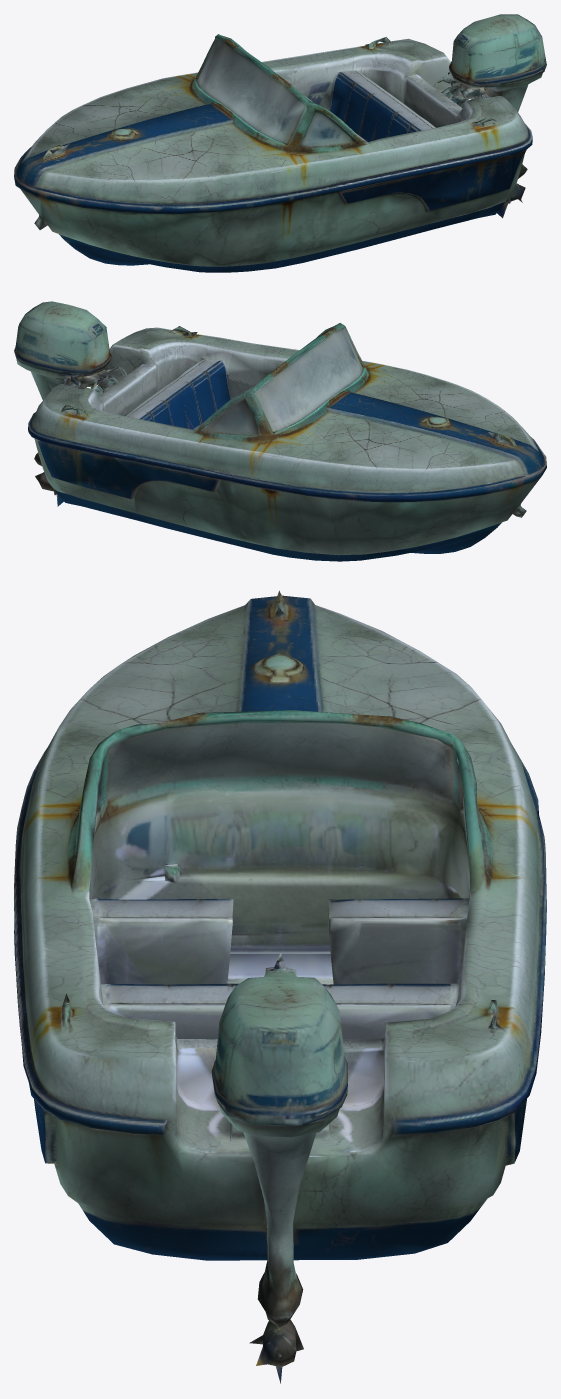
File: lancha.glb
3 renders of one model, top to bottom at view 1: azimuth 30°, elevation 25°; view 2: azimuth 150°, elevation 25°; view 3: azimuth 270°, elevation 25°, orthographic. The views are drawn at different scales.
Parts seen in each view (by area): view 1: Mesh1.0; view 2: Mesh1.0; view 3: Mesh1.0.
Boxes of the visible parts, box(x1,y1,x2,y2) form: Mesh1.0: box(14, 14, 546, 272); Mesh1.0: box(14, 301, 546, 561); Mesh1.0: box(14, 590, 546, 1383).
Size of the model in its own units: 5.73 by 2.31 by 2.56.
Materials: 1 (1 with a texture image).
